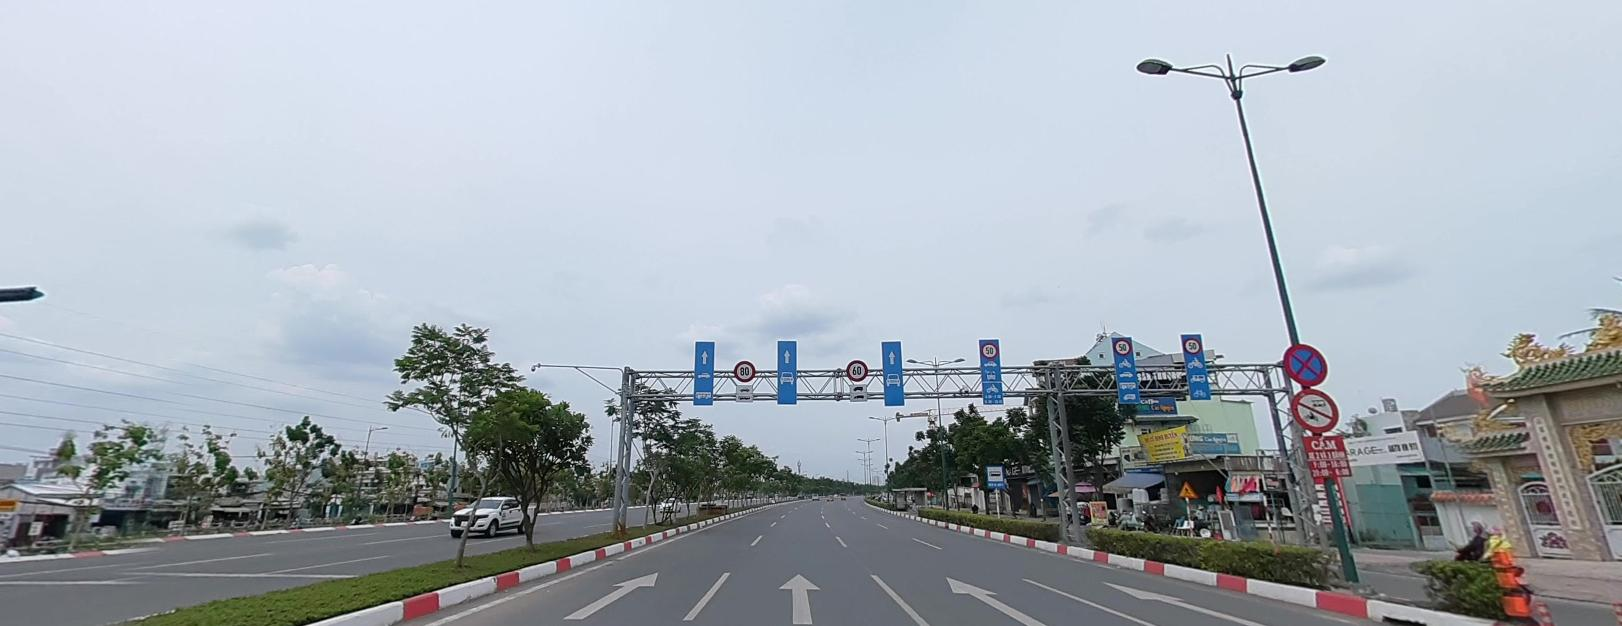Cam con lai: (1289, 387, 1340, 433)
Cam dung va do: (1282, 341, 1332, 385)
Gioi han toc do: (845, 357, 868, 381), (734, 359, 756, 381), (1183, 336, 1202, 354), (1113, 337, 1132, 353), (981, 341, 998, 357)
Nguy hiem: (1176, 479, 1198, 497)
